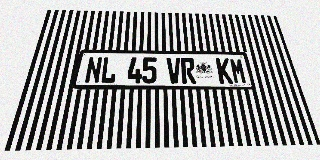4: (127, 57, 142, 83)
5: (142, 57, 157, 83)
K: (216, 58, 233, 84)
L: (100, 57, 117, 83)
M: (229, 58, 248, 84)
N: (84, 57, 103, 83)
R: (180, 58, 196, 84)
V: (167, 57, 182, 84)
